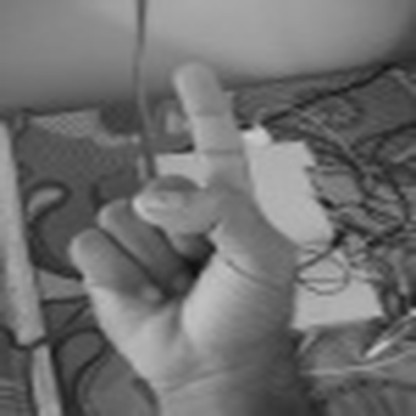d: (65, 46, 301, 375)
